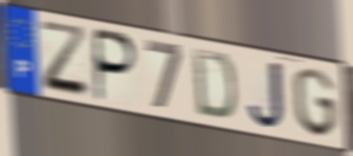7: (143, 36, 186, 114)
D: (190, 45, 239, 123)
G: (290, 66, 340, 141)
J: (246, 58, 287, 131)
P: (93, 26, 140, 105)
Z: (38, 18, 92, 102)
